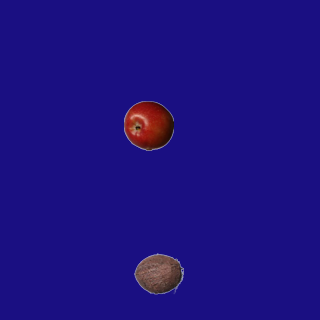Apple Braeburn: (123, 100, 173, 150)
Cocos: (133, 248, 183, 298)
